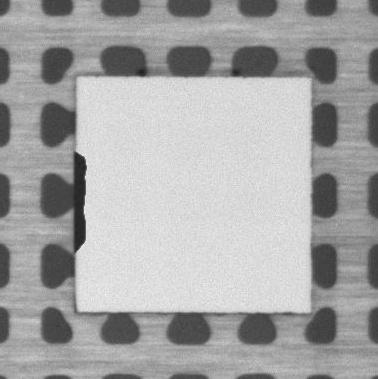DIE_BROKEN: (71, 147, 89, 255)
